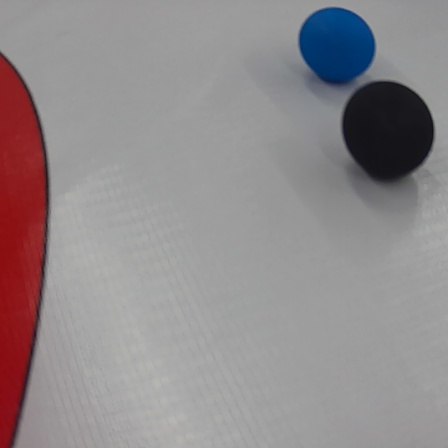black: (343, 71, 439, 185)
blue: (299, 6, 380, 85)
red_base: (1, 47, 49, 448)
